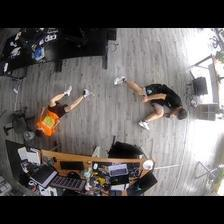fall: (112, 73, 190, 130), (34, 85, 92, 137)
